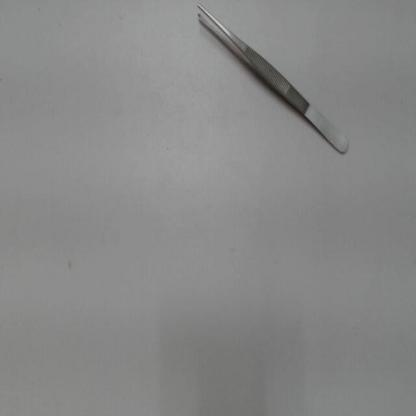Gillies Toothed Dissector: (190, 1, 357, 166)
